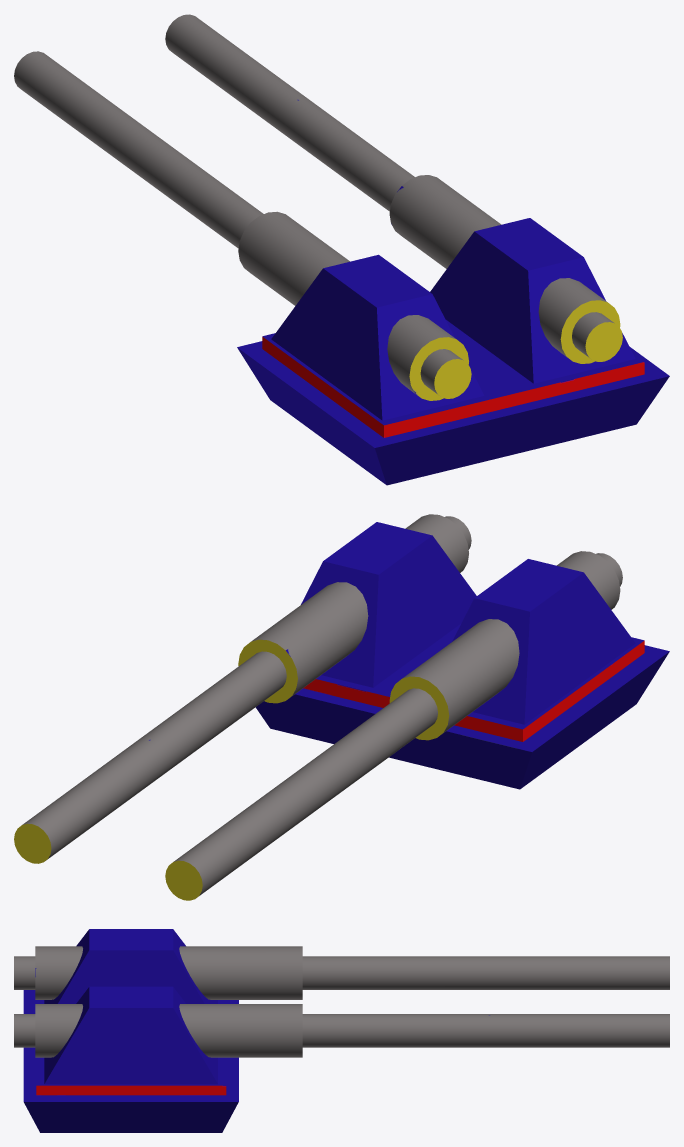
Rendered from UltraPhaser.fbx.
The picture shows the model from 3 angles, top to bottom: view 1: azimuth 30°, elevation 25°; view 2: azimuth 150°, elevation 25°; view 3: azimuth 270°, elevation 25°; orthographic projection. The views are drawn at different scales.
Parts seen in each view (by area): view 1: polySurface1; view 2: polySurface1; view 3: polySurface1.
Part boxes in pixels (x1,y1,x2,y2): polySurface1: [14, 14, 669, 485]; polySurface1: [14, 514, 669, 900]; polySurface1: [14, 929, 669, 1132].
Bounding box in the file's own units: 1.37 × 0.6615 × 3.37.
1 material, 1 textured.
